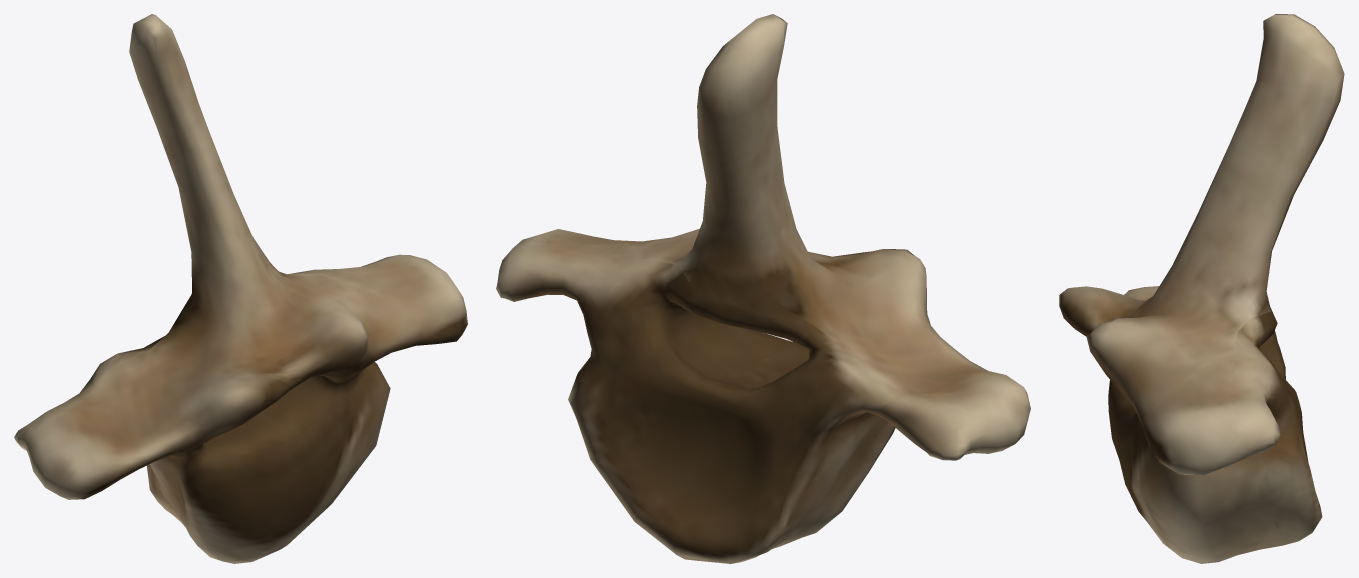
File: Thoracic_Vertebrae10.glb
The picture shows the model from 3 angles, left to right: view 1: azimuth 30°, elevation 25°; view 2: azimuth 150°, elevation 25°; view 3: azimuth 270°, elevation 25°; orthographic projection. The views are drawn at different scales.
Parts seen in each view (by area): view 1: Horse_low:SelSet_51Merged_L_Frt_Sesamoid_Bones_1; view 2: Horse_low:SelSet_51Merged_L_Frt_Sesamoid_Bones_1; view 3: Horse_low:SelSet_51Merged_L_Frt_Sesamoid_Bones_1.
Part boxes in pixels (left/top/right/bottom): Horse_low:SelSet_51Merged_L_Frt_Sesamoid_Bones_1: left=14, top=14, right=467, bottom=563; Horse_low:SelSet_51Merged_L_Frt_Sesamoid_Bones_1: left=496, top=14, right=1030, bottom=563; Horse_low:SelSet_51Merged_L_Frt_Sesamoid_Bones_1: left=1059, top=14, right=1344, bottom=563.
Bounding box in the file's own units: 0.1296 × 0.1481 × 0.0743.
1 material, 1 textured.
